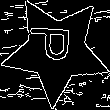P_E: (31, 30, 82, 71)
